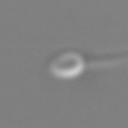normal: (87, 45, 128, 69)
